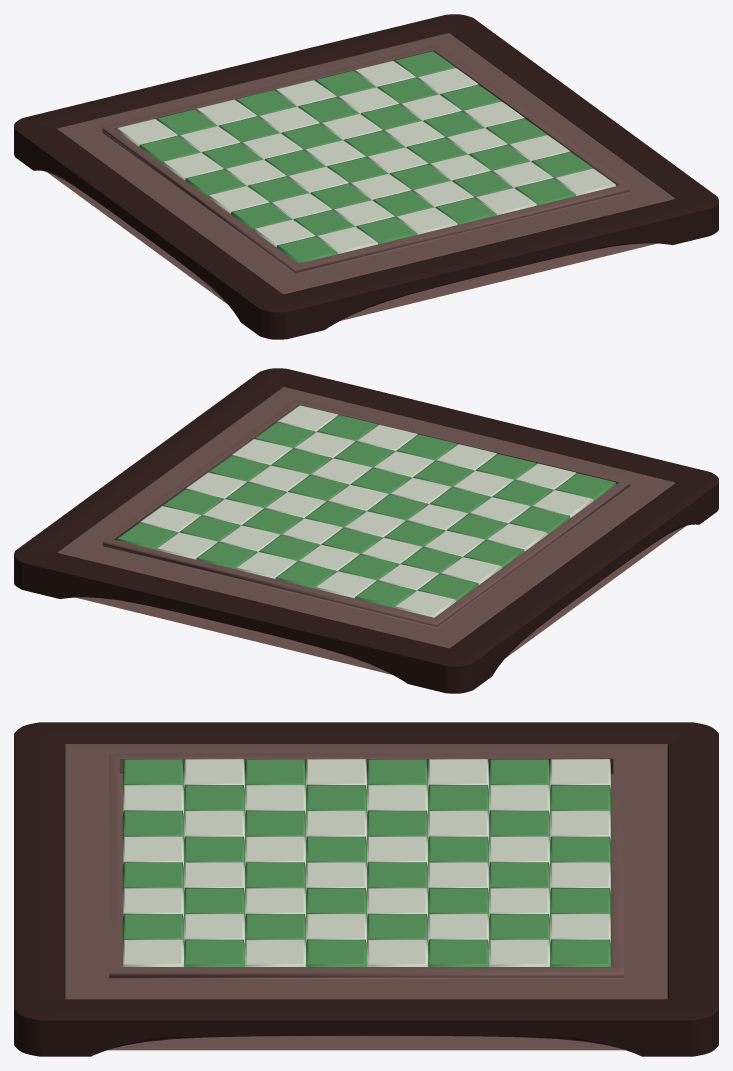
File: board.fbx
3 renders of one model, top to bottom at view 1: azimuth 30°, elevation 25°; view 2: azimuth 150°, elevation 25°; view 3: azimuth 270°, elevation 25°, orthographic. The views are drawn at different scales.
Visible parts, largest first — view 1: Plane, Cube, Cube.001; view 2: Plane, Cube, Cube.001; view 3: Plane, Cube, Cube.001.
Part boxes in pixels (box(x1,y1,x2,y2)): Plane: box(116, 51, 615, 263); Cube: box(14, 14, 718, 339); Cube.001: box(47, 33, 675, 320); Plane: box(117, 405, 616, 617); Cube: box(14, 368, 718, 693); Cube.001: box(57, 387, 685, 674); Plane: box(122, 759, 610, 966); Cube: box(14, 722, 718, 1056); Cube.001: box(65, 744, 667, 1050).
Size of the model in its own units: 1212 by 86.9 by 1212.
